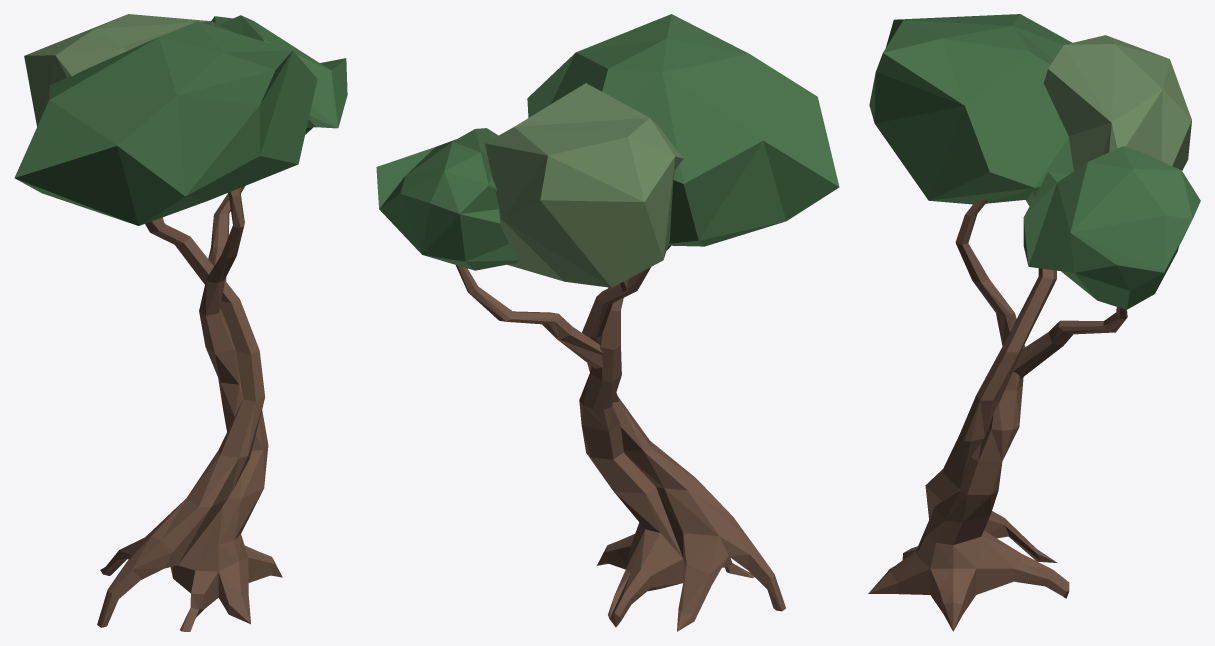
File: _tree_8.fbx
3 views of the same model, side by side, from view 1: azimuth 30°, elevation 25°; view 2: azimuth 150°, elevation 25°; view 3: azimuth 270°, elevation 25° (orthographic). The views are drawn at different scales.
Visible parts, largest first — view 1: tree_8; view 2: tree_8; view 3: tree_8.
Boxes of the visible parts, box(x1,y1,x2,y2) form: tree_8: box(14, 14, 347, 631); tree_8: box(376, 14, 839, 631); tree_8: box(868, 14, 1200, 631).
Bounding box in the file's own units: 415 × 544 × 291.
